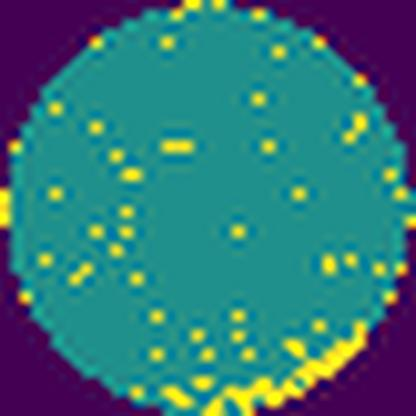Edge-Loc: (192, 314, 374, 416)
